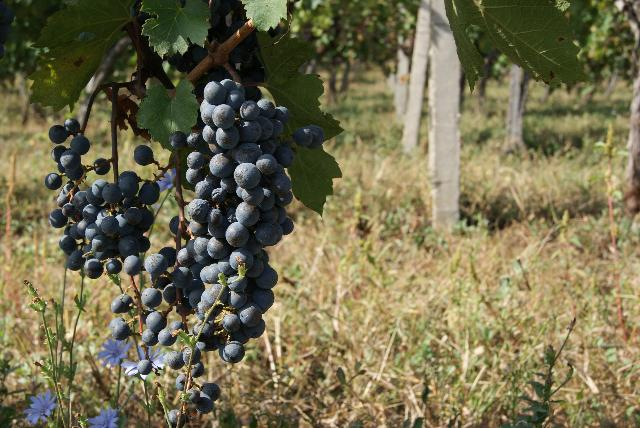grapes: (170, 79, 325, 362), (141, 251, 220, 428), (50, 171, 159, 279)
